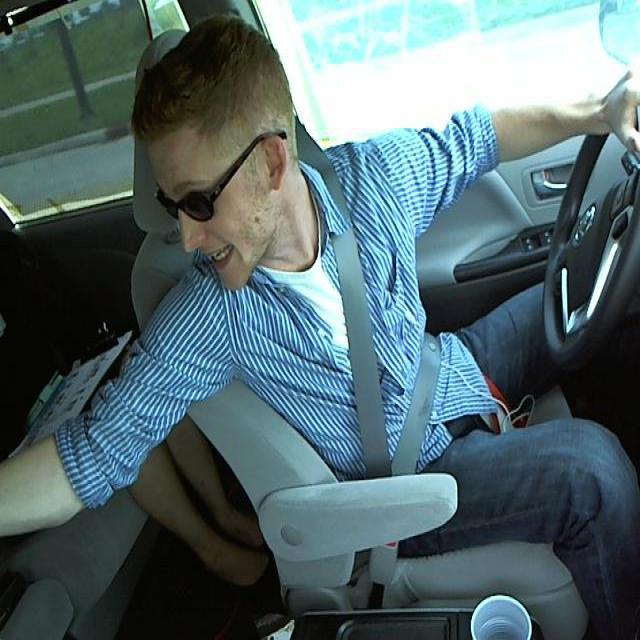seatbelt: (322, 187, 438, 477)
